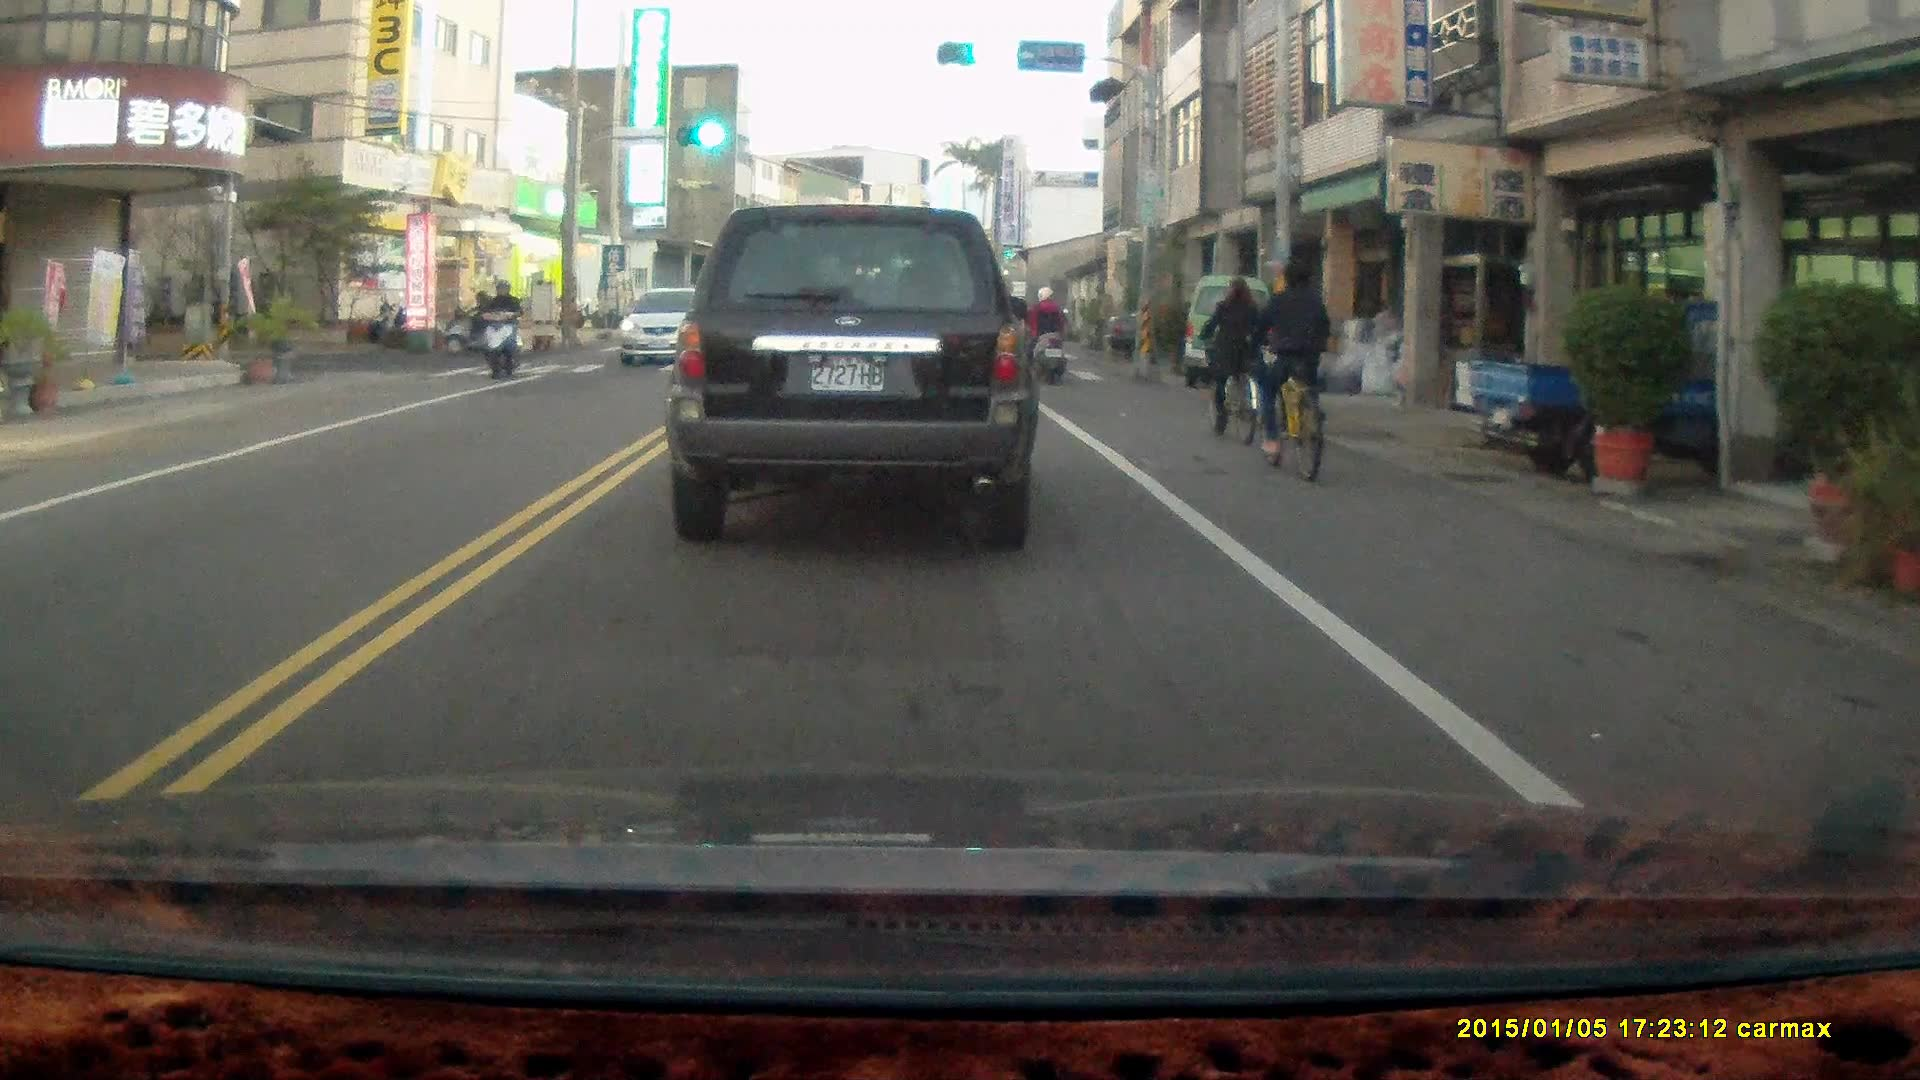rider: (1239, 258, 1331, 481), (1200, 276, 1262, 439), (442, 285, 511, 360), (479, 277, 526, 382), (1023, 284, 1070, 386)
vehicle: (662, 202, 1042, 549), (1183, 277, 1290, 385), (623, 285, 721, 366)
